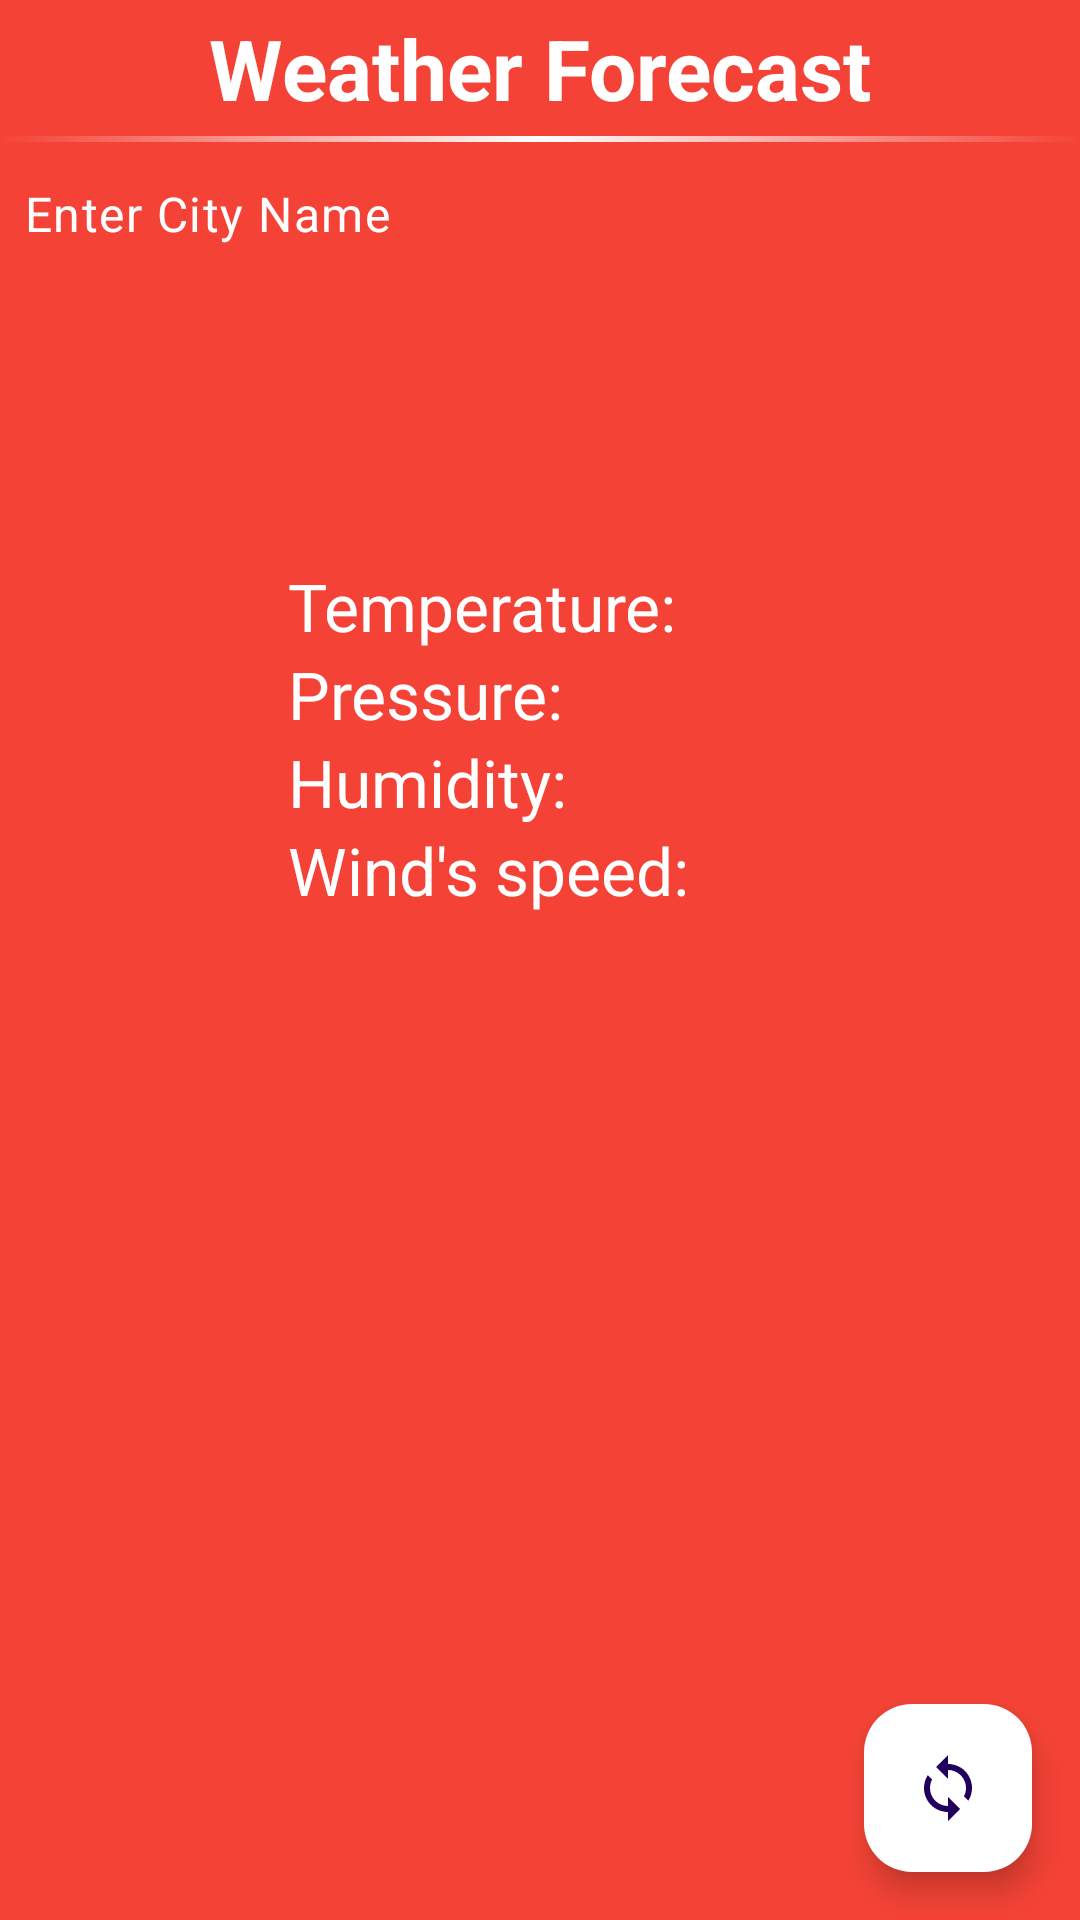

Icon click points for this 1080 x 1920 phone screenshot, format [x,y]:
sync: [948,1788]
